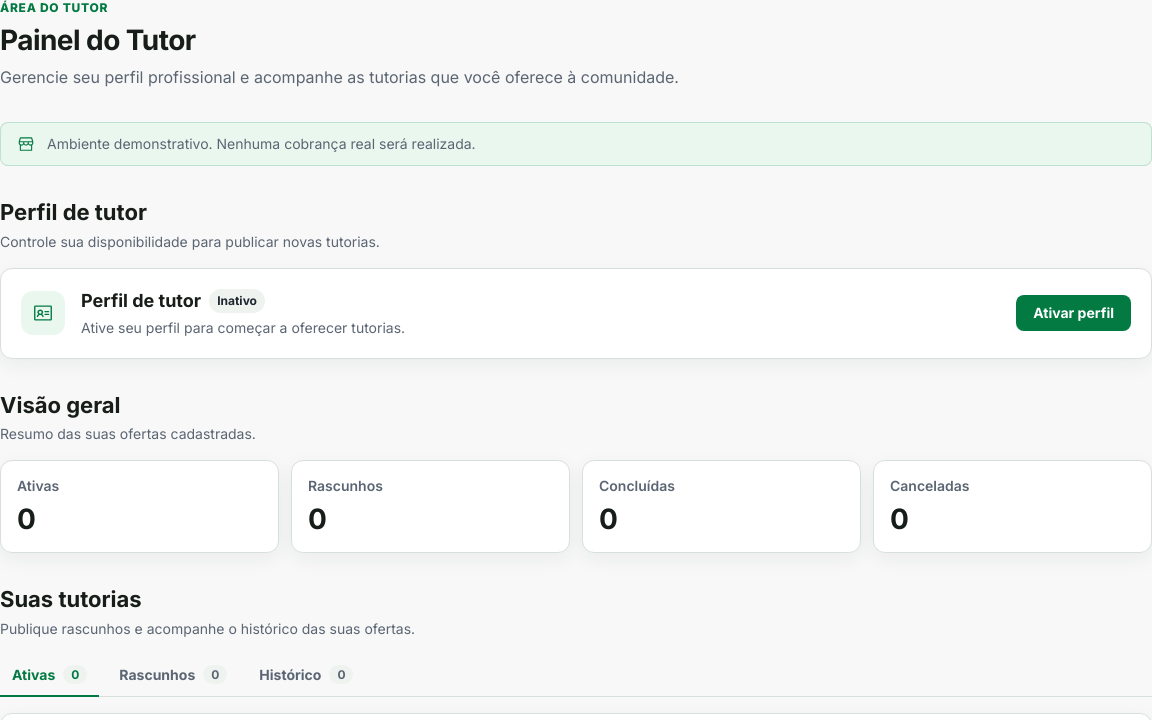
marketplace conectado à API › ativa o tutor pela API
This screenshot has width=1152, height=720.
Step 1. Click the button "Ativar perfil" → x=1074, y=313, box [1016, 295, 1131, 331]
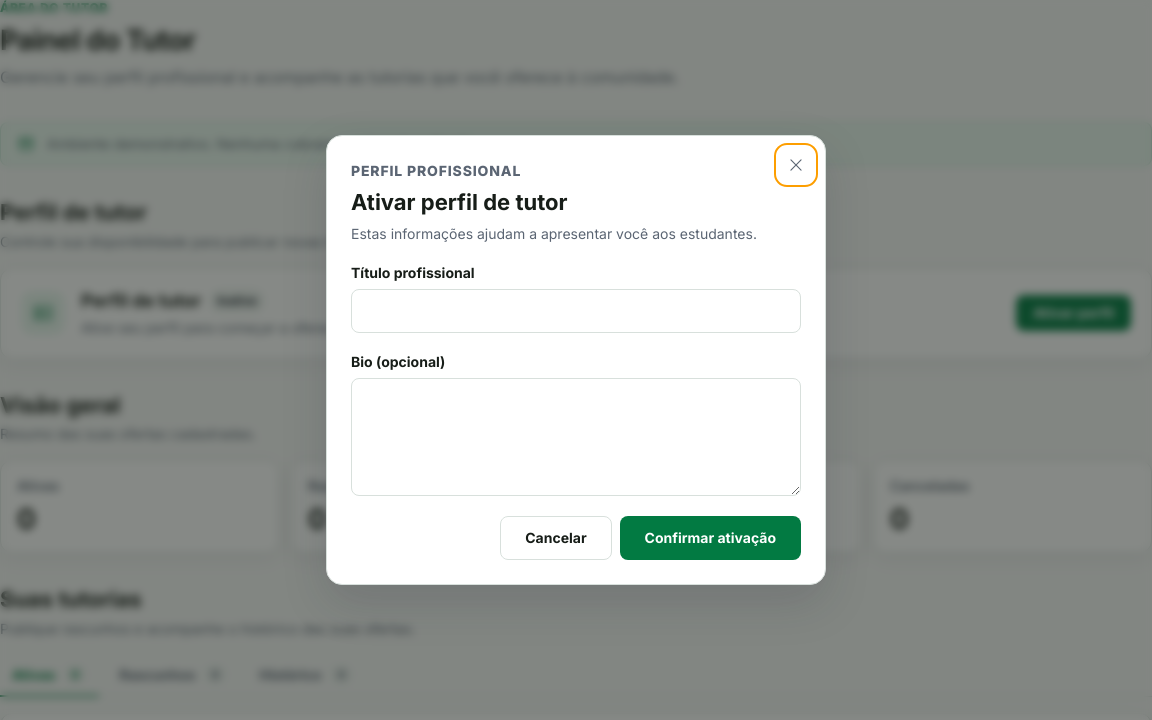
Step 2. Type "Tutor de cálculo" into the field labelled "Título profissional" → x=576, y=311, box [351, 289, 801, 333]
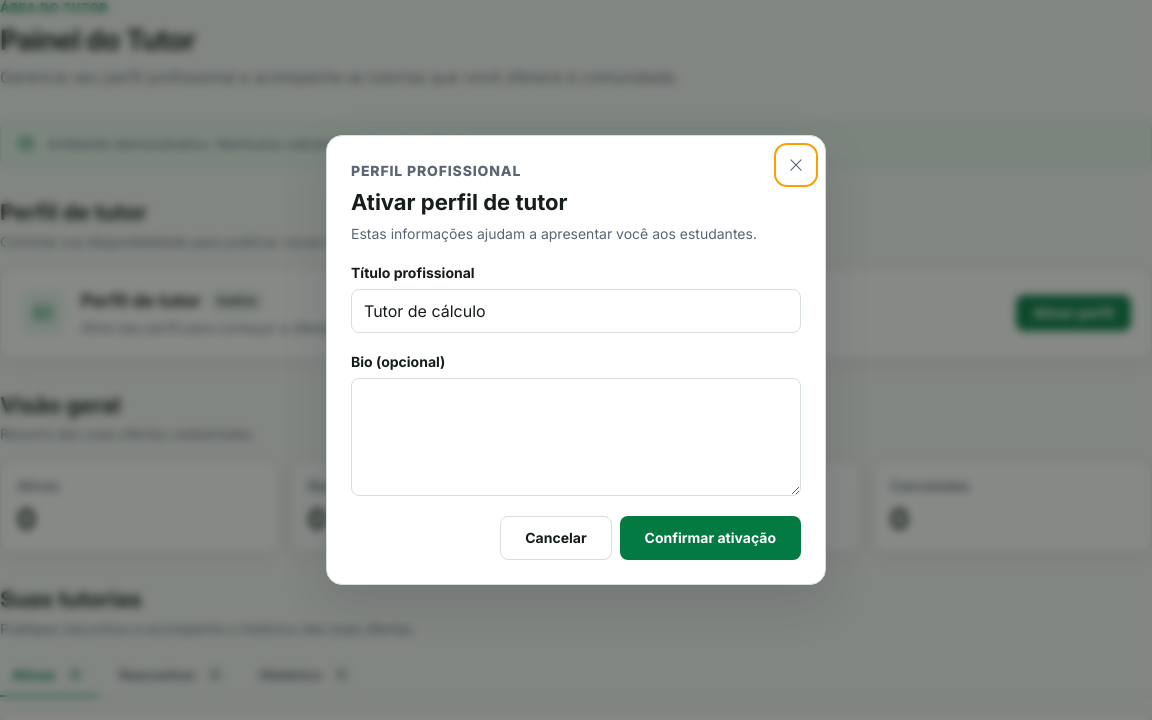
Step 3. Click the button "Confirmar ativação" → x=710, y=538, box [620, 516, 801, 560]
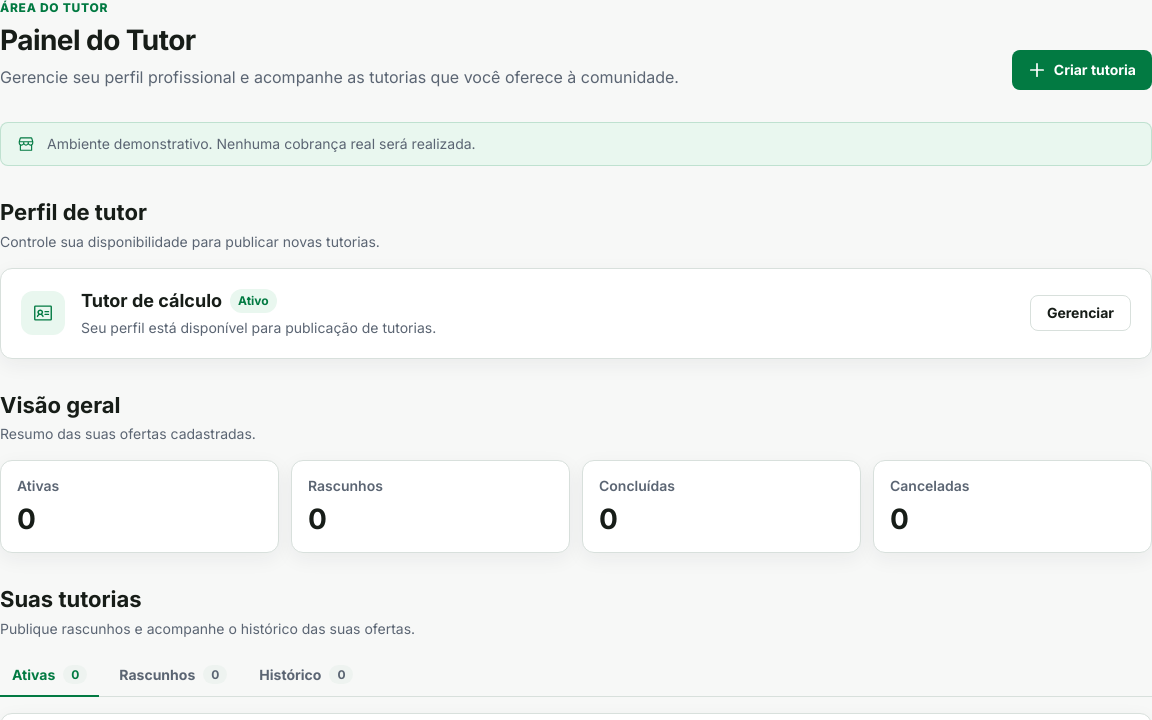
Now the link "Criar tutoria" is shown, box [1012, 50, 1151, 90]
